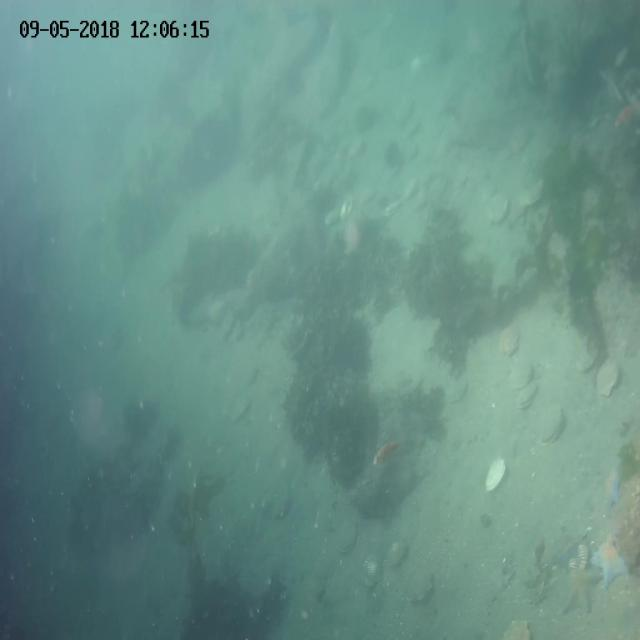scallop: (403, 569, 436, 606), (538, 405, 566, 447), (483, 456, 509, 500), (596, 360, 622, 400), (360, 554, 386, 590), (334, 520, 358, 554), (498, 324, 522, 358), (444, 378, 472, 407), (522, 180, 550, 208), (506, 128, 533, 157), (485, 193, 509, 224), (503, 616, 533, 640), (506, 364, 535, 388), (384, 540, 408, 568), (515, 383, 538, 410), (392, 100, 417, 122), (231, 397, 251, 423), (271, 495, 291, 520), (428, 175, 448, 200), (574, 354, 598, 374), (402, 118, 422, 140), (339, 196, 354, 222), (243, 365, 259, 389), (322, 208, 342, 226), (346, 138, 363, 158), (402, 178, 417, 200), (413, 188, 428, 209)
starfish: (591, 532, 633, 590), (560, 567, 600, 618), (602, 462, 626, 517)
